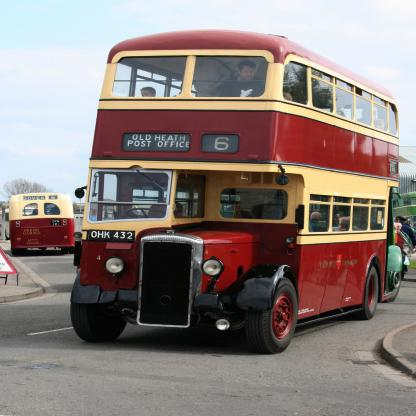Bus: (66, 25, 399, 354), (11, 192, 75, 253), (388, 192, 416, 236)
